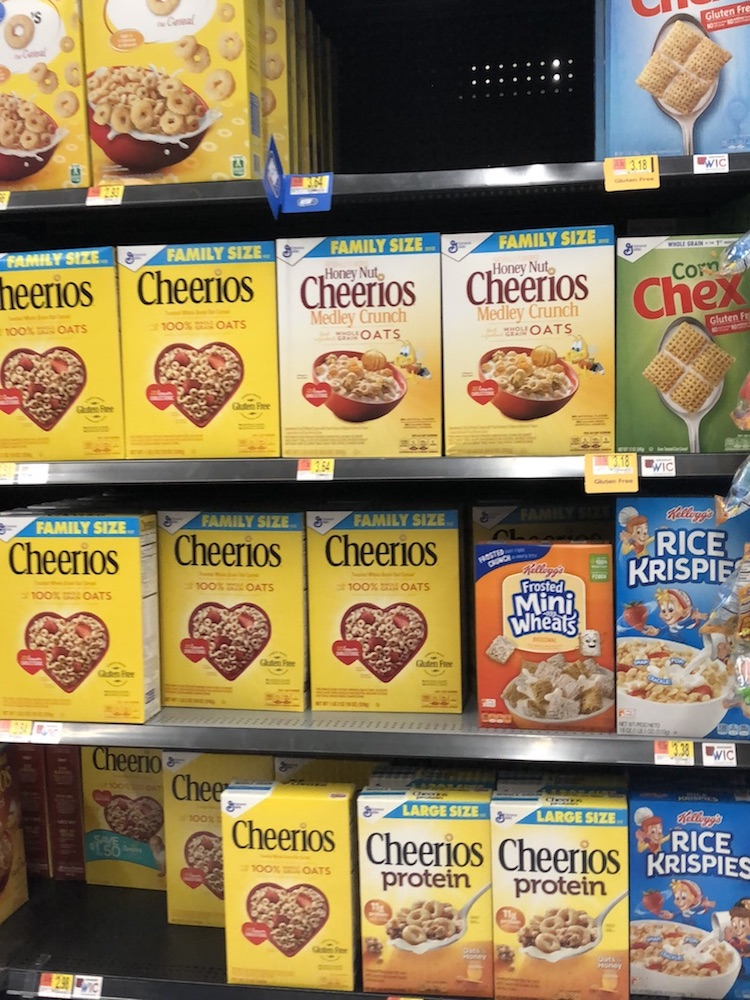Frosted Mini Original -9295869: (476, 537, 616, 725)
